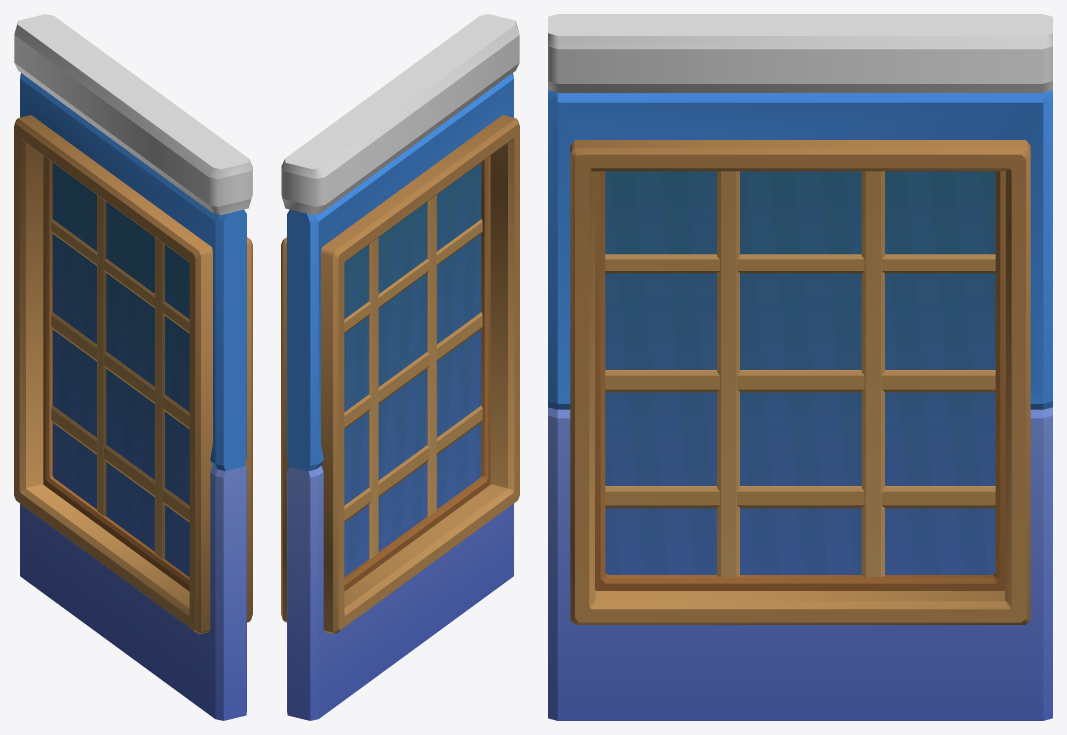
Rendered from Wall_D_7.glb.
The picture shows the model from 3 angles, left to right: view 1: azimuth 30°, elevation 25°; view 2: azimuth 150°, elevation 25°; view 3: azimuth 270°, elevation 25°; orthographic projection. The views are drawn at different scales.
Visible parts, largest first — view 1: Wall_D_7; view 2: Wall_D_7; view 3: Wall_D_7.
Boxes of the visible parts, x1,y1,x2,y2 form: Wall_D_7: (14, 14, 252, 720); Wall_D_7: (281, 14, 519, 720); Wall_D_7: (548, 14, 1052, 720).
Size of the model in its own units: 0.3277 by 3 by 2.
Materials: 2 (2 with a texture image).
